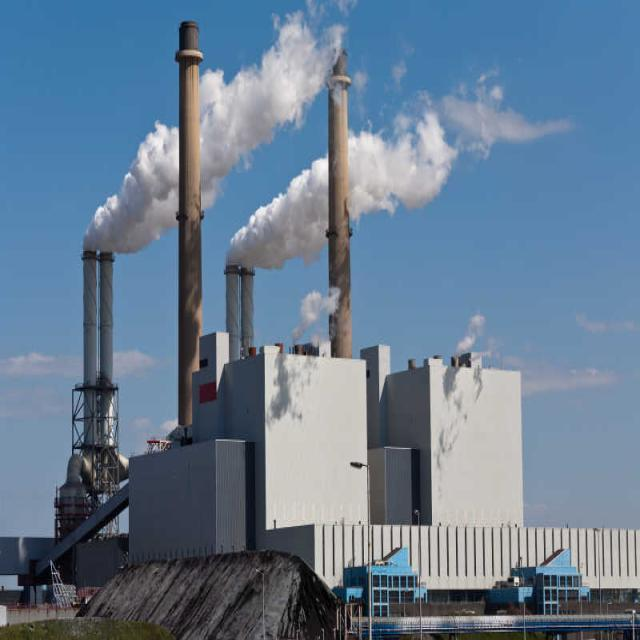Smoke: (82, 17, 342, 257), (226, 100, 454, 274)
